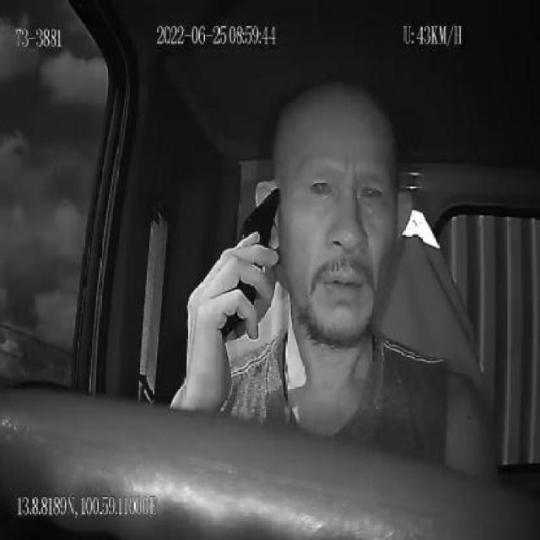phone: (218, 183, 282, 349)
